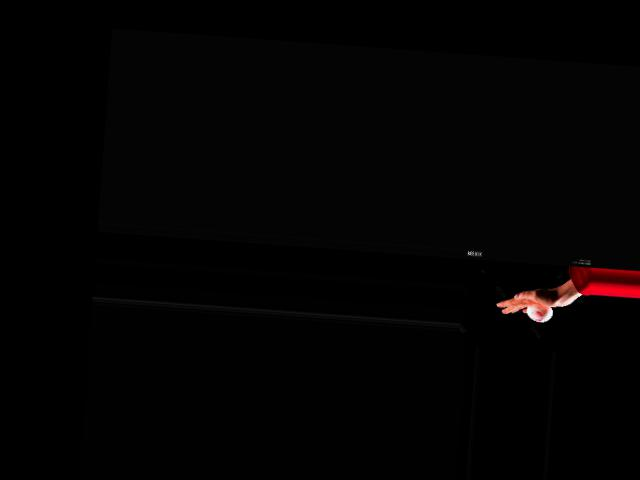egg: (527, 303, 554, 322)
